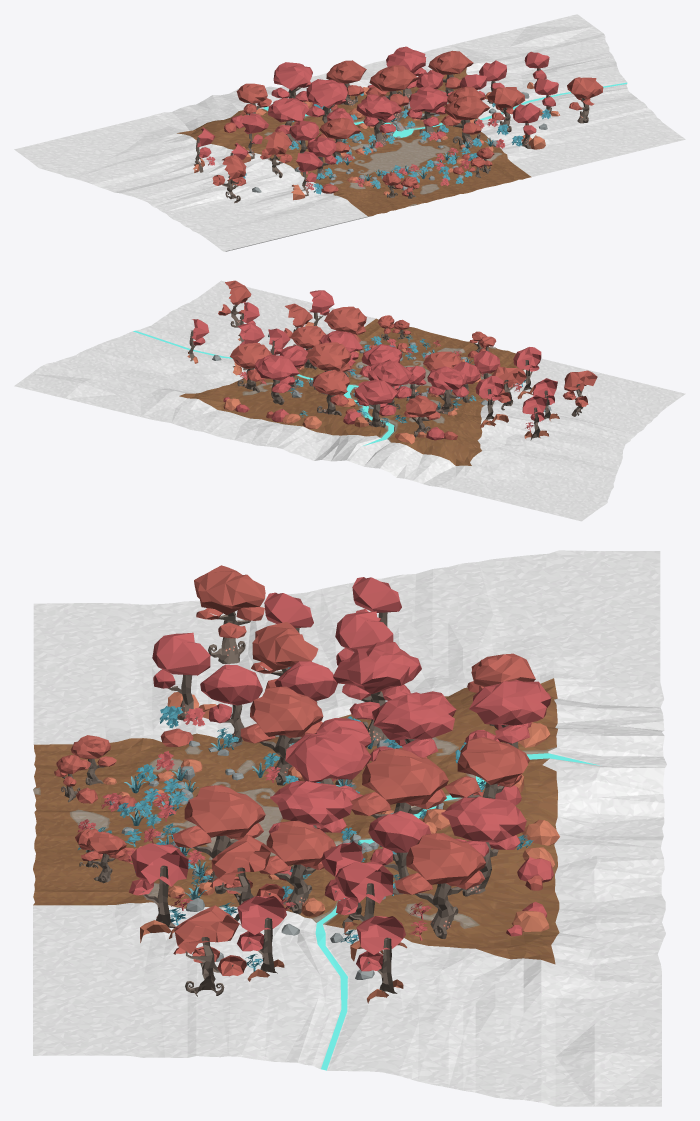
File: burningForestDiorama.fbx
The picture shows the model from 3 angles, top to bottom: view 1: azimuth 30°, elevation 25°; view 2: azimuth 150°, elevation 25°; view 3: azimuth 270°, elevation 25°; orthographic projection. The views are drawn at different scales.
Parts seen in each view (by area): view 1: BFDiorama_ground, BFDiorama_Props1, BFDiorama_Props4, BFDiorama_Props3, BFDiorama_Props2; view 2: BFDiorama_ground, BFDiorama_Props4, BFDiorama_Props1, BFDiorama_Props3, BFDiorama_Props2; view 3: BFDiorama_ground, BFDiorama_Props1, BFDiorama_Props4, BFDiorama_Props2, BFDiorama_Props3.
Boxes of the visible parts, box(x1,y1,x2,y2) form: BFDiorama_ground: box(14, 14, 685, 251); BFDiorama_Props1: box(326, 46, 603, 149); BFDiorama_Props4: box(193, 62, 347, 203); BFDiorama_Props3: box(389, 86, 504, 185); BFDiorama_Props2: box(315, 94, 419, 198); BFDiorama_ground: box(14, 280, 685, 521); BFDiorama_Props4: box(343, 347, 597, 444); BFDiorama_Props1: box(187, 280, 362, 428); BFDiorama_Props3: box(319, 306, 440, 389); BFDiorama_Props2: box(358, 331, 514, 400); BFDiorama_ground: box(33, 550, 666, 1106); BFDiorama_Props1: box(129, 737, 559, 1003); BFDiorama_Props4: box(152, 565, 551, 805); BFDiorama_Props2: box(54, 686, 371, 840); BFDiorama_Props3: box(75, 781, 378, 911).
Size of the model in its own units: 73.89 by 7.37 by 35.96.
5 materials, 4 textured.
